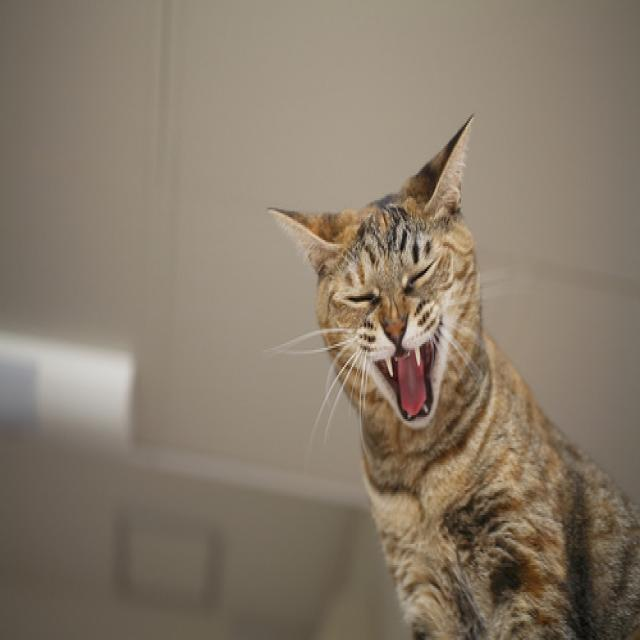cat: (266, 113, 640, 639)
